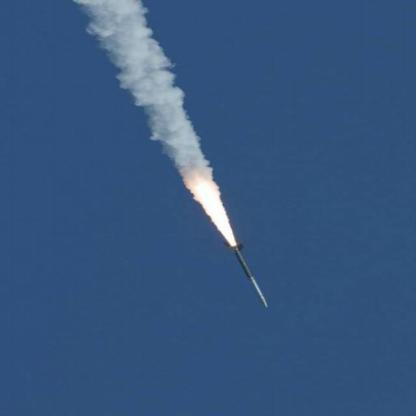MIL_TBM: (224, 242, 270, 310)
